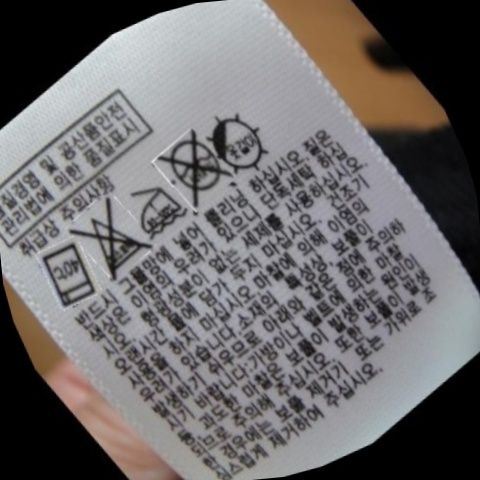40C: (29, 233, 105, 319)
DN_dry_clean: (155, 118, 231, 212)
iron_low: (122, 171, 191, 245)
line_dry_in_shade: (200, 96, 279, 185)
non_chlorine_bleach: (65, 185, 155, 288)
